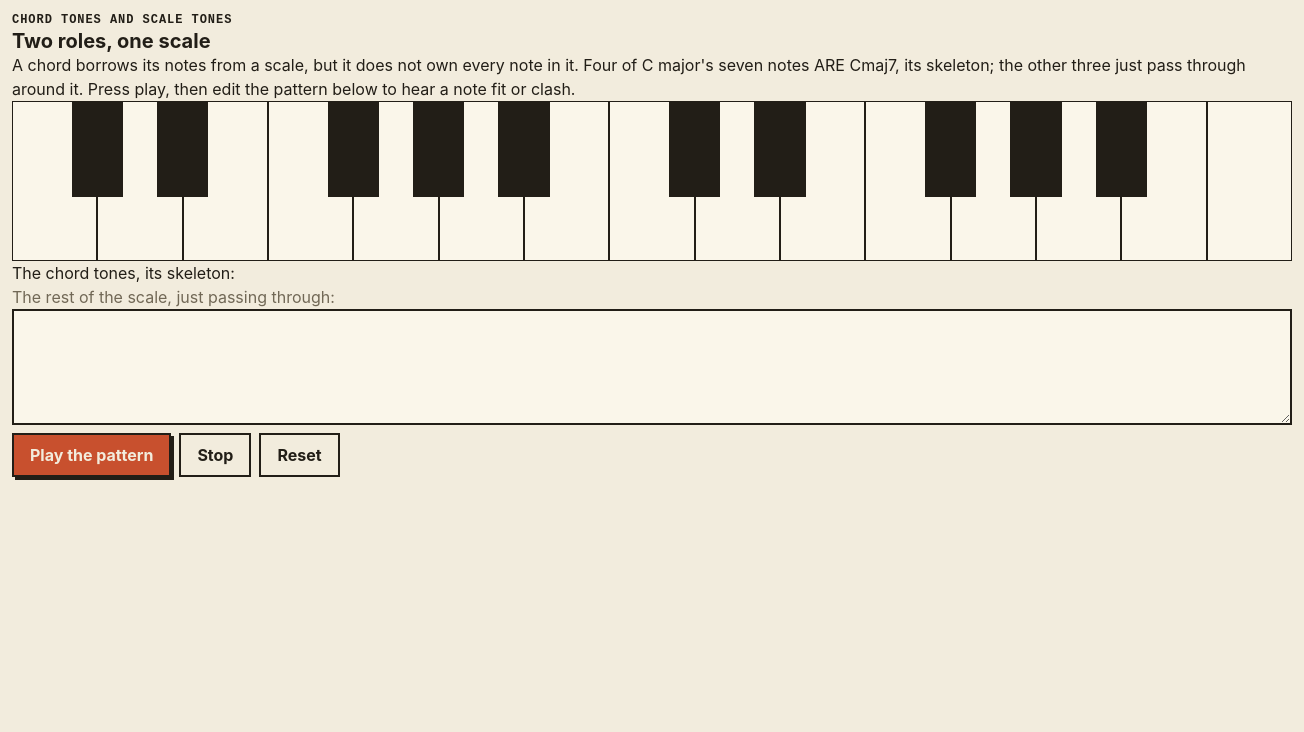
the editable pattern › shows an honest unavailable message when the engine fails to load, never a silent no-op
Click the button "Play the pattern".
click(92, 455)  # box [12,433,171,477]
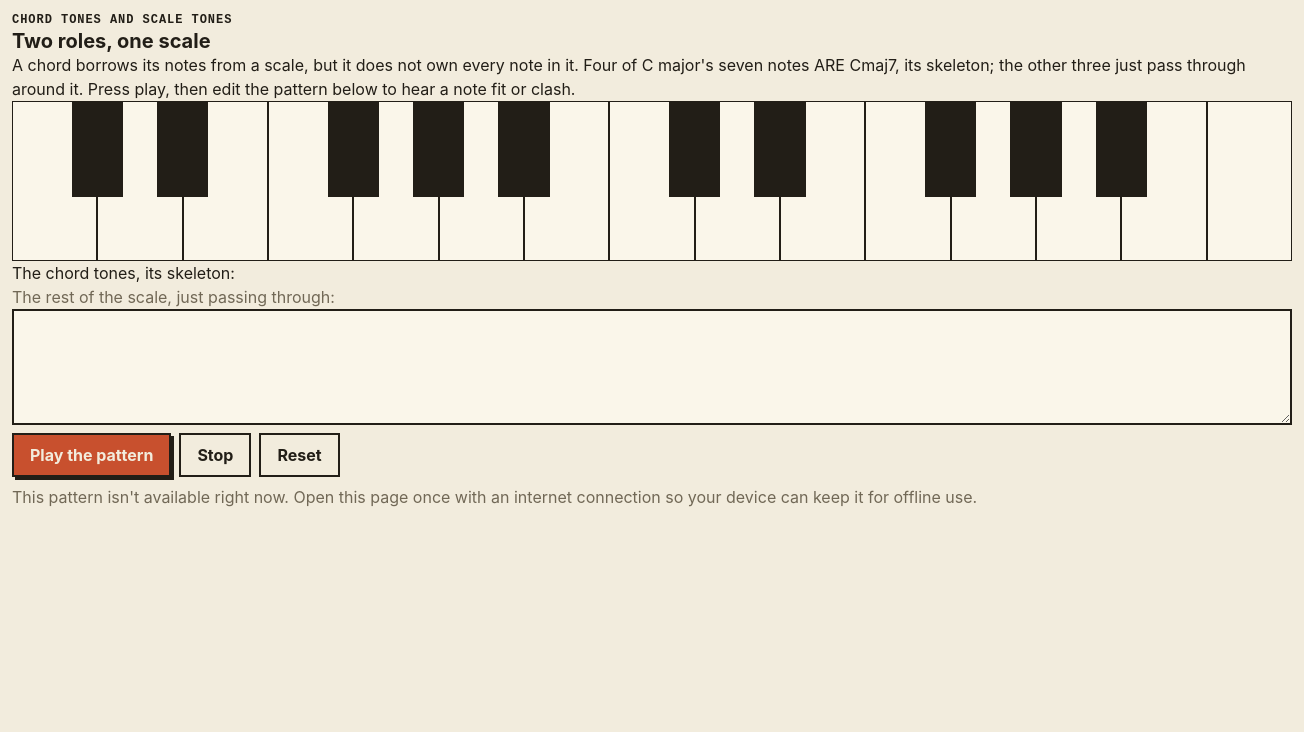
Now the text with test id "chord-scale-unavailable" is shown, box [12,487,977,507]
